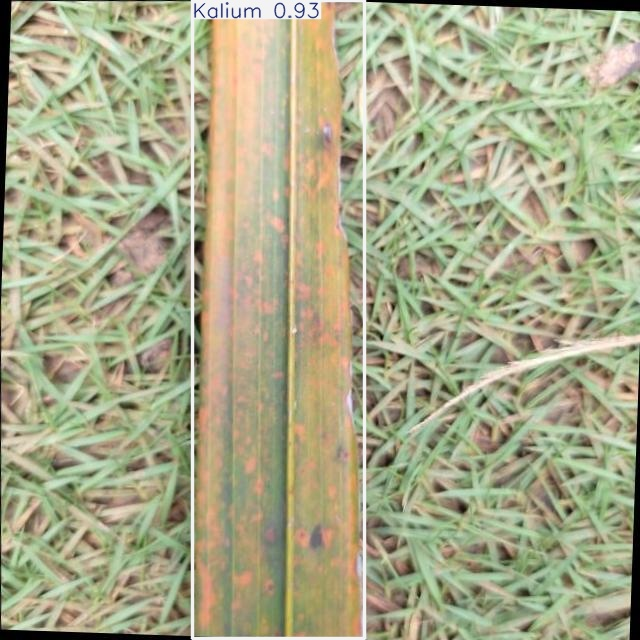Kalium: (193, 1, 364, 639)
